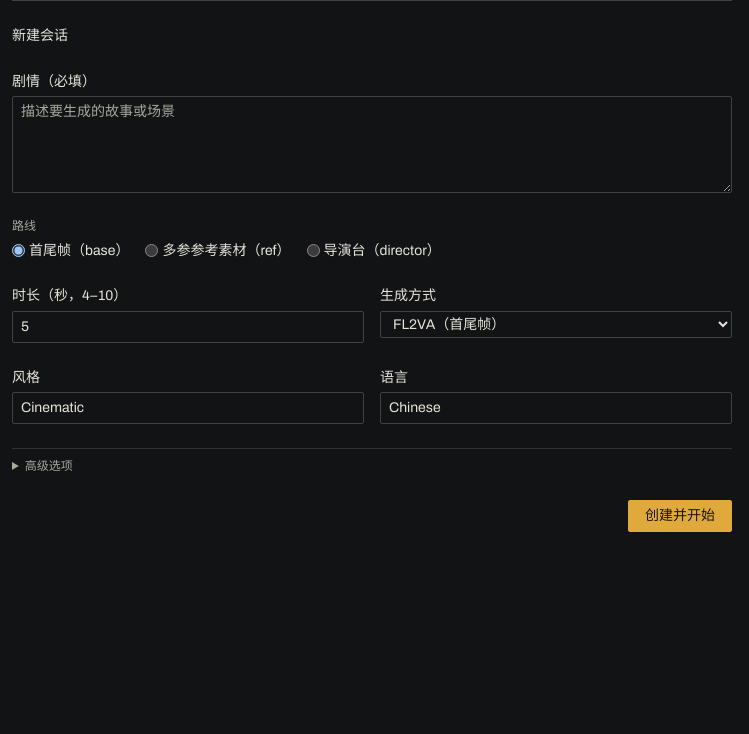
Scenario: SessionCreateForm 画布选择器（#366） › base 不显示画布控件；ref 显示生图画布三步选择与影响面说明
This screenshot has width=749, height=734.
Expected: the text "影响道具与场景" is not shown
Click the radio button named "mode" at (152, 251), box left=145, top=244, right=158, bottom=257
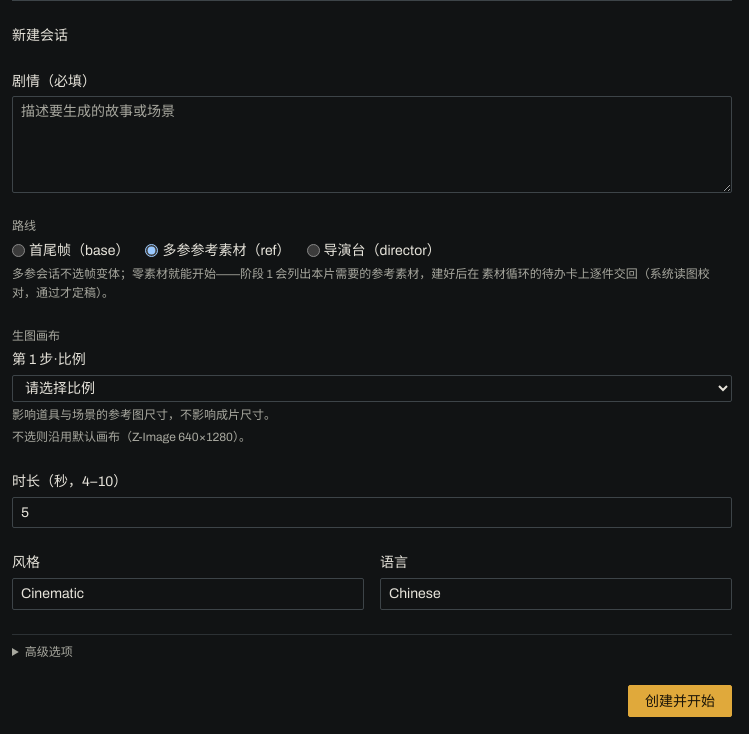
Expected: the element that starts with "生图画布" is shown, left=12, top=327, right=732, bottom=447
Expected: the text "影响道具与场景的参考图尺寸，不影响成片尺寸" is shown, left=12, top=408, right=276, bottom=422
Expected: the text "Z-Image 640×1280" is shown, left=12, top=430, right=251, bottom=444
